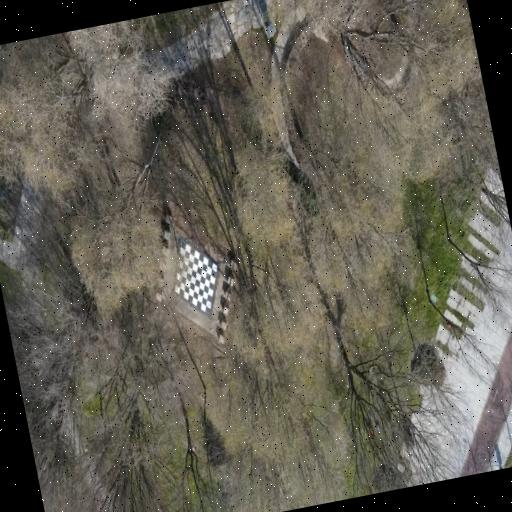person: (499, 464, 512, 486), (367, 417, 373, 436), (375, 419, 380, 433)
